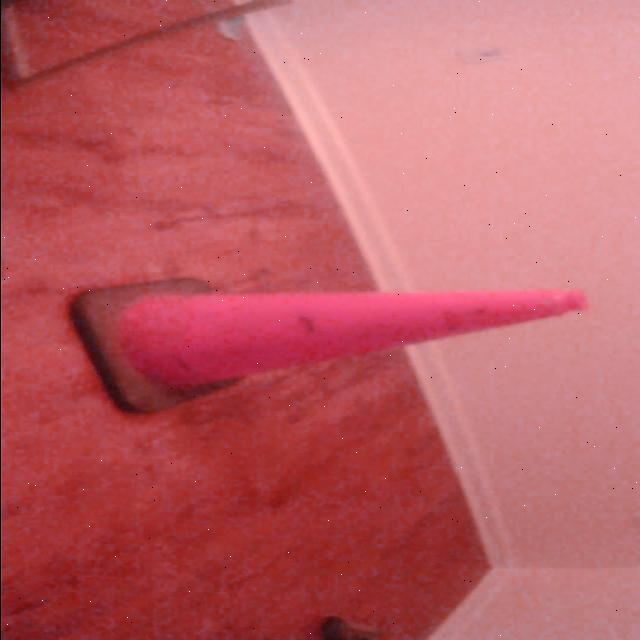traffic cone: (66, 273, 591, 417)
